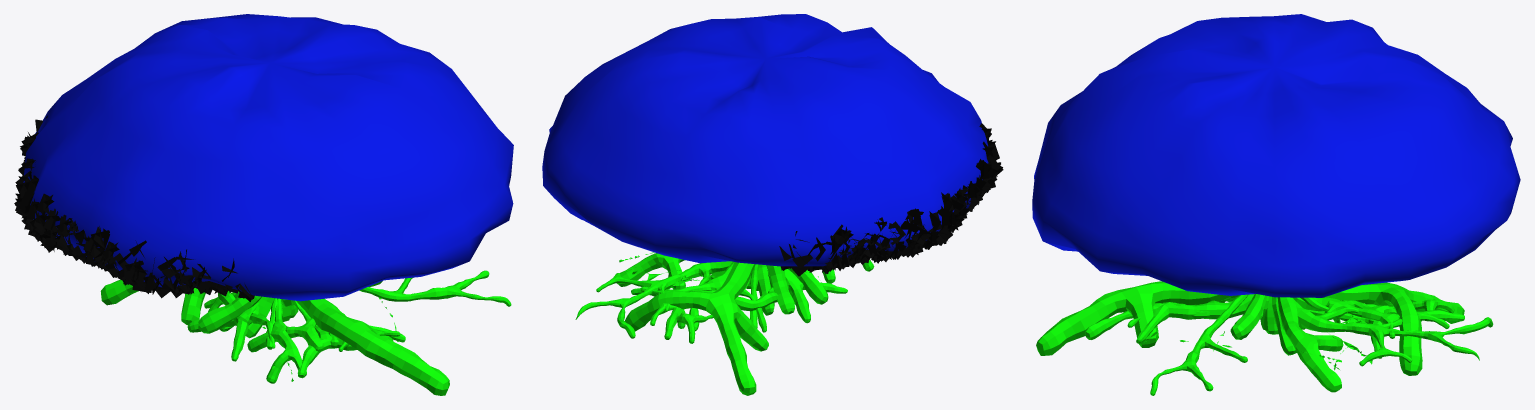
Rendered from big_tree_lowpolly.fbx.
3 renders of one model, left to right at view 1: azimuth 30°, elevation 25°; view 2: azimuth 150°, elevation 25°; view 3: azimuth 270°, elevation 25°, orthographic. The views are drawn at different scales.
Visible parts, largest first — view 1: Sphere, Vert, Plane.059; view 2: Sphere, Vert, Plane.059; view 3: Sphere, Vert.
Boxes of the visible parts, box(x1,y1,x2,y2) form: Sphere: box(23, 14, 513, 301); Vert: box(100, 270, 511, 395); Plane.059: box(14, 115, 254, 301); Sphere: box(542, 14, 988, 266); Vert: box(575, 252, 874, 395); Plane.059: box(779, 123, 1003, 276); Sphere: box(1032, 14, 1520, 297); Vert: box(1036, 281, 1493, 395).
Size of the model in its own units: 1060 by 683 by 1013.
